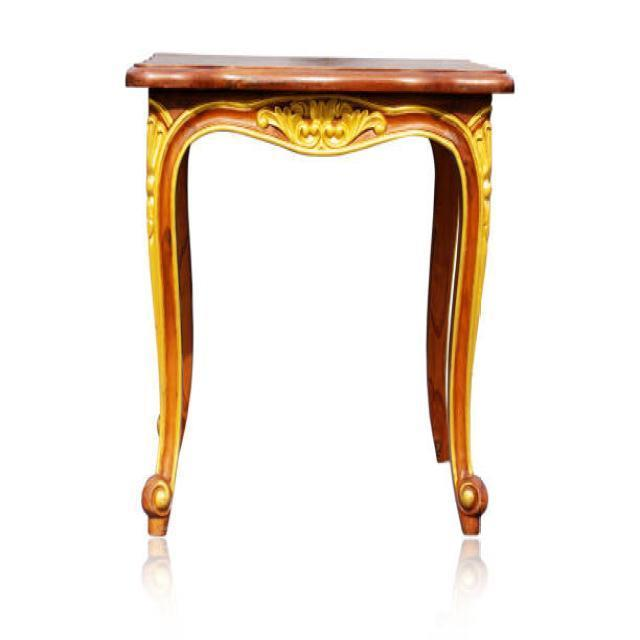table: (124, 50, 514, 540)
